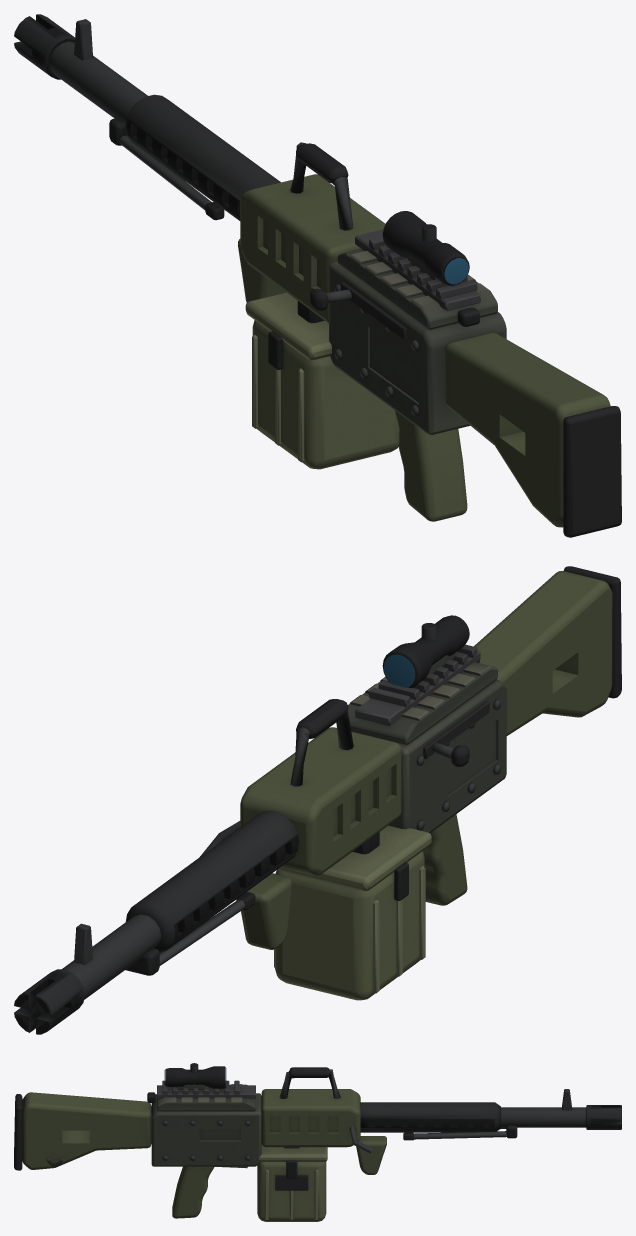
Rendered from LMG.fbx.
3 renders of one model, top to bottom at view 1: azimuth 30°, elevation 25°; view 2: azimuth 150°, elevation 25°; view 3: azimuth 270°, elevation 25°, orthographic. The views are drawn at different scales.
Visible parts, largest first — view 1: LMG_body, LMG_mag, LMG_optic; view 2: LMG_body, LMG_mag, LMG_optic; view 3: LMG_body, LMG_mag, LMG_optic.
Part boxes in pixels (left/top/right/bottom): LMG_body: left=14, top=14, right=621, bottom=537; LMG_mag: left=245, top=292, right=398, bottom=469; LMG_optic: left=382, top=211, right=469, bottom=285; LMG_body: left=14, top=566, right=621, bottom=1034; LMG_mag: left=274, top=825, right=431, bottom=1000; LMG_optic: left=382, top=615, right=469, bottom=687; LMG_body: left=14, top=1067, right=621, bottom=1218; LMG_mag: left=257, top=1144, right=327, bottom=1221; LMG_optic: left=164, top=1063, right=226, bottom=1089.
Bounding box in the file's own units: 65.17 × 121 × 442.
Materials: 1 (1 with a texture image).
